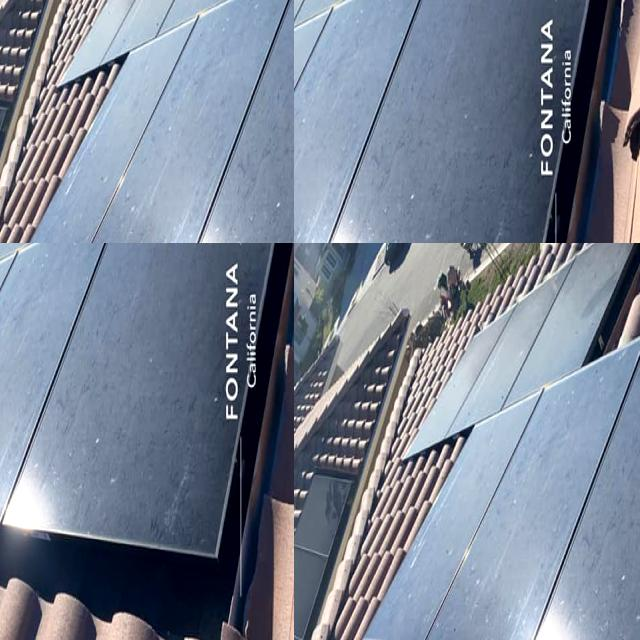crack: (126, 101, 294, 243), (0, 94, 140, 243)
dust: (543, 436, 634, 640), (449, 472, 527, 640), (161, 577, 277, 640), (466, 314, 566, 371), (551, 243, 609, 330)
